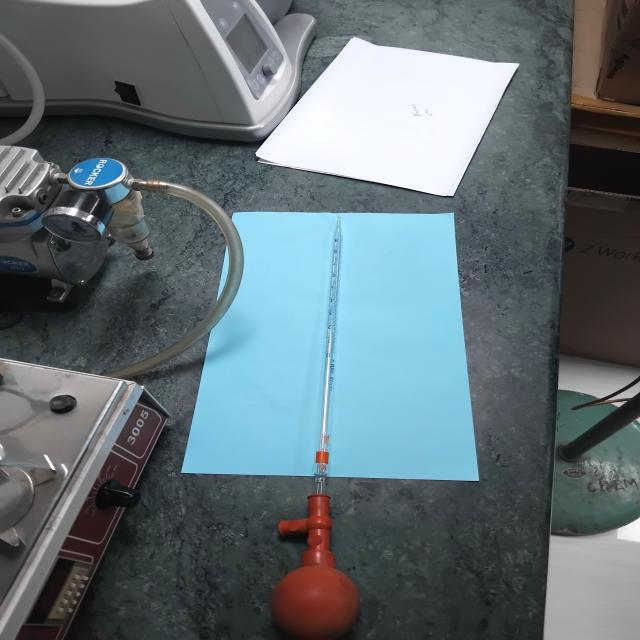Volumetric_Pipet: (272, 212, 390, 635)
